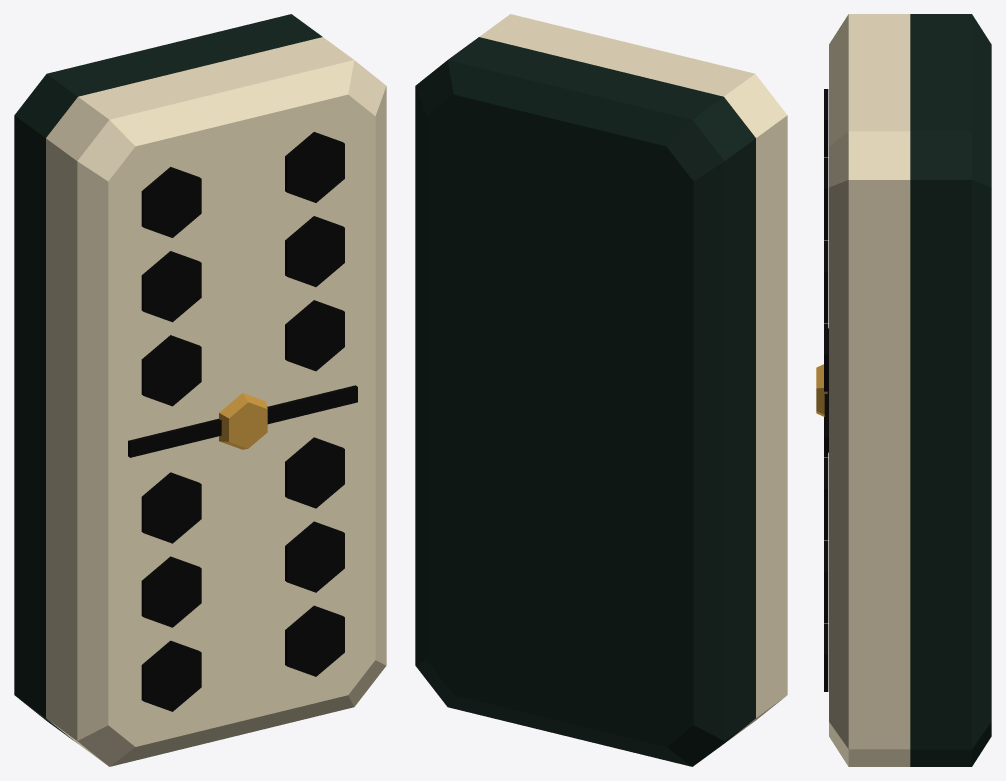
The model's file is domino_tile.glb.
3 views of the same model, side by side, from view 1: azimuth 30°, elevation 25°; view 2: azimuth 150°, elevation 25°; view 3: azimuth 270°, elevation 25° (orthographic).
Visible parts, largest first — view 1: domino_tile; view 2: domino_tile; view 3: domino_tile.
Boxes of the visible parts, x1,y1,x2,y2 form: domino_tile: (14, 14, 386, 766); domino_tile: (415, 14, 787, 766); domino_tile: (816, 14, 991, 766).
Size of the model in its own units: 0.025 by 0.05 by 0.0125.
